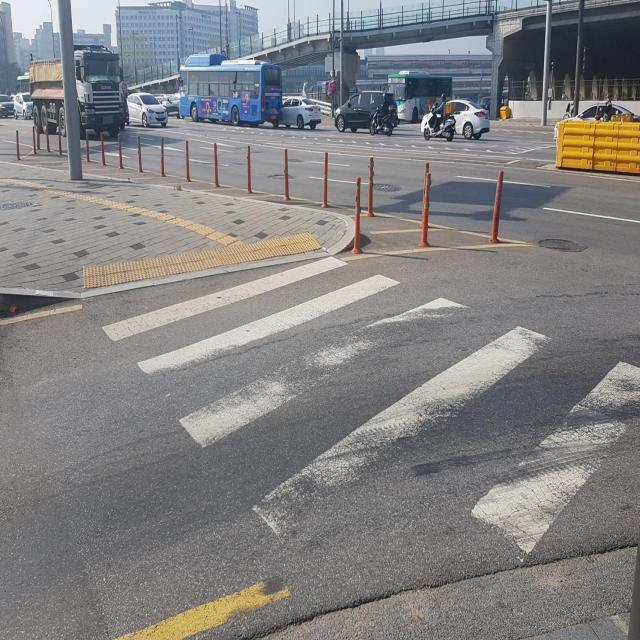횡단보도: (97, 248, 640, 564)
